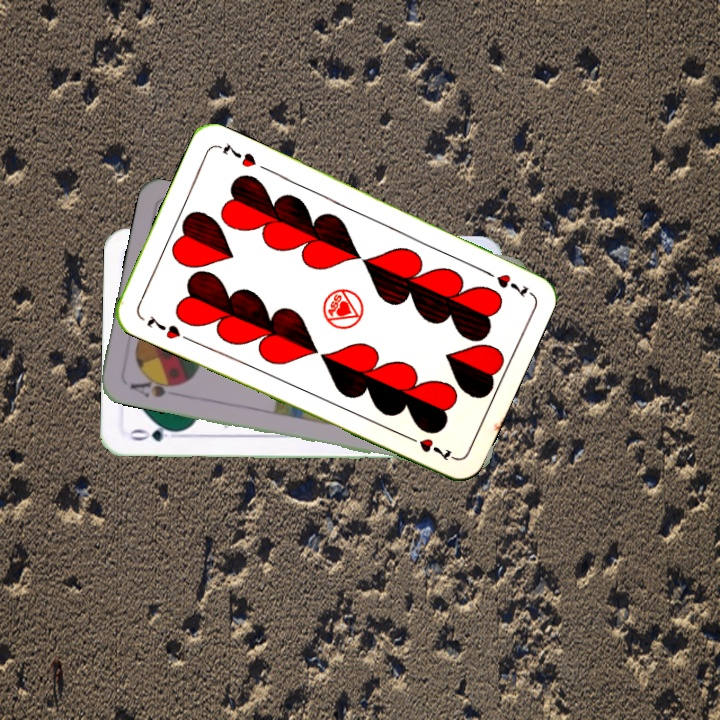GO: (125, 421, 184, 445)
H7: (477, 264, 533, 299), (142, 311, 193, 344)
SA: (126, 372, 184, 400)
